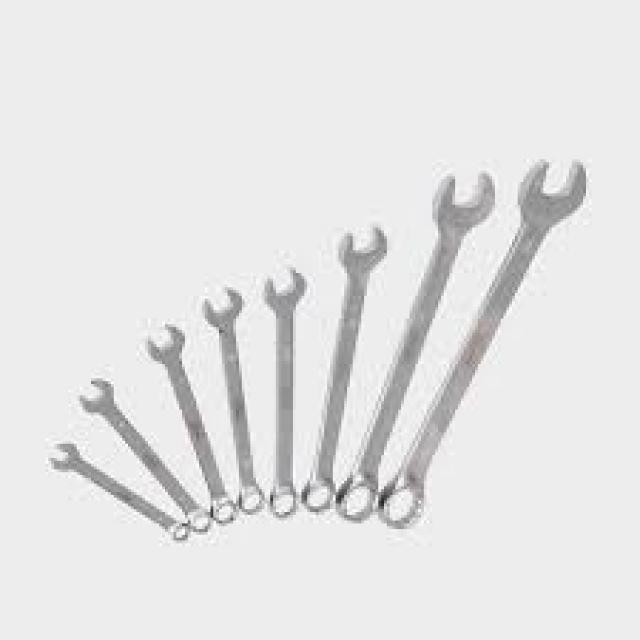wrench: (373, 150, 595, 540), (331, 161, 501, 527), (300, 217, 394, 519), (74, 368, 212, 538), (140, 317, 242, 527), (196, 280, 266, 520), (44, 436, 190, 548), (260, 258, 313, 528)
